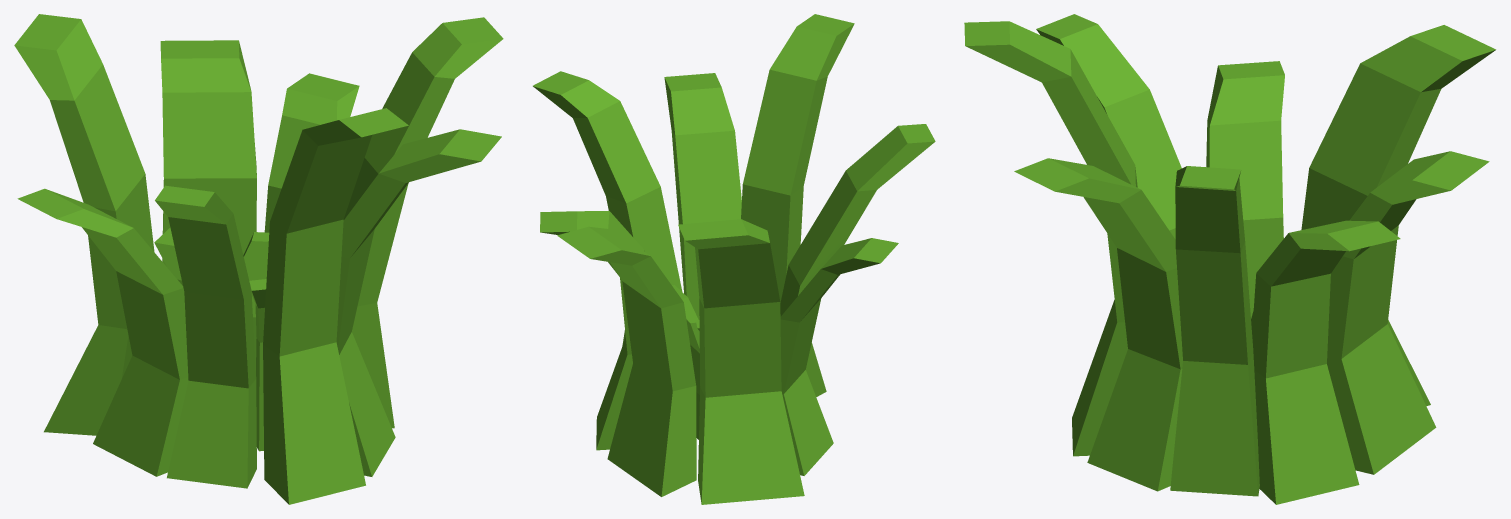
Rendered from trava2.fbx.
3 views of the same model, side by side, from view 1: azimuth 30°, elevation 25°; view 2: azimuth 150°, elevation 25°; view 3: azimuth 270°, elevation 25° (orthographic). The views are drawn at different scales.
Parts seen in each view (by area): view 1: Grass #2; view 2: Grass #2; view 3: Grass #2.
Boxes of the visible parts, x1,y1,x2,y2 form: Grass #2: [14, 14, 503, 504]; Grass #2: [533, 14, 935, 504]; Grass #2: [964, 14, 1495, 504].
Bounding box in the file's own units: 317 × 275 × 326.
